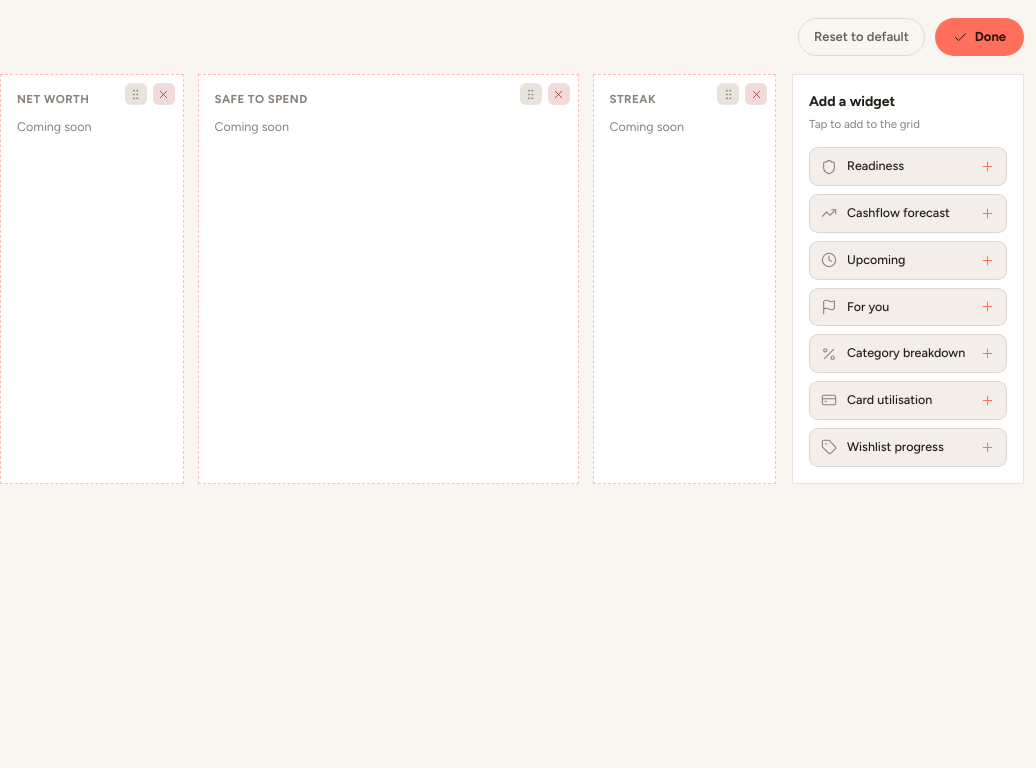
Test: DashGrid › hides a widget (drops a grid shell) when its remove button is clicked
This screenshot has width=1036, height=768.
Expected: the number of pictures named "Drag to reorder" is 3, x1=124 y1=83 x2=146 y2=105; x1=520 y1=83 x2=542 y2=105; x1=717 y1=83 x2=739 y2=105
Click the button named "Remove Streak". click: (756, 94)
box: x1=745 y1=83 x2=767 y2=105
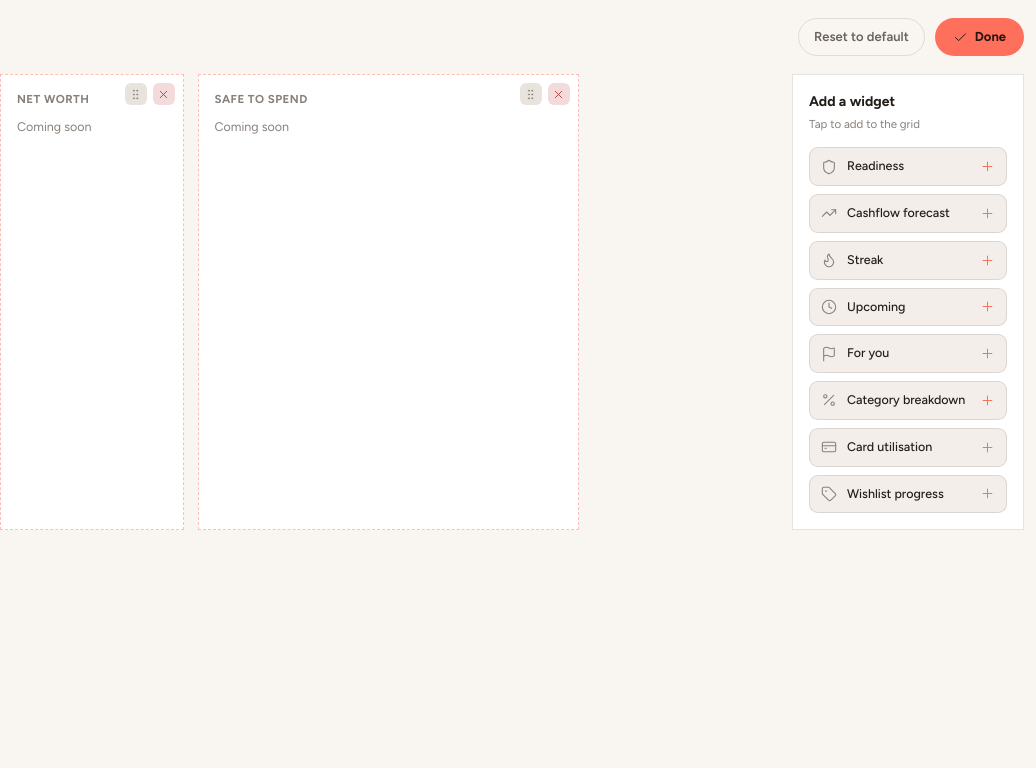
Now the number of pictures named "Drag to reorder" is 2, box x1=124 y1=83 x2=146 y2=105; x1=520 y1=83 x2=542 y2=105
